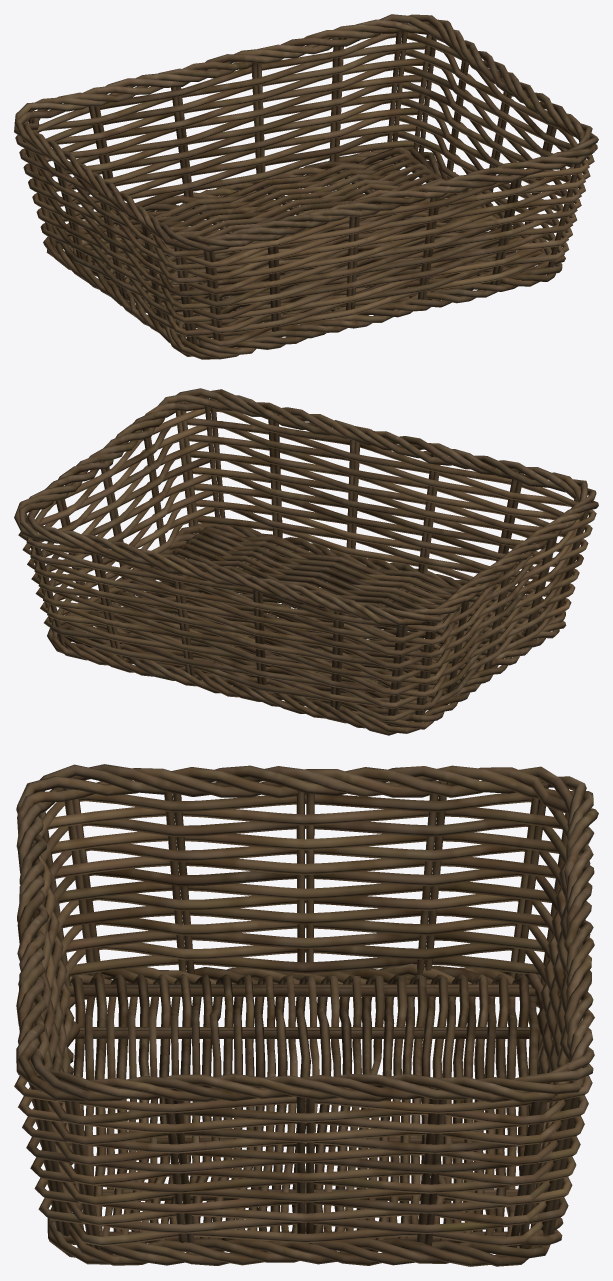
File: wicker_basket_01.glb
The picture shows the model from 3 angles, top to bottom: view 1: azimuth 30°, elevation 25°; view 2: azimuth 150°, elevation 25°; view 3: azimuth 270°, elevation 25°; orthographic projection. The views are drawn at different scales.
Parts seen in each view (by area): view 1: wicker_basket_01; view 2: wicker_basket_01; view 3: wicker_basket_01.
Part boxes in pixels (box(x1,y1,x2,y2)): wicker_basket_01: box(14, 14, 598, 359); wicker_basket_01: box(14, 388, 598, 735); wicker_basket_01: box(14, 764, 598, 1266).
Size of the model in its own units: 0.3832 by 0.1174 by 0.295.
Materials: 1 (1 with a texture image).
